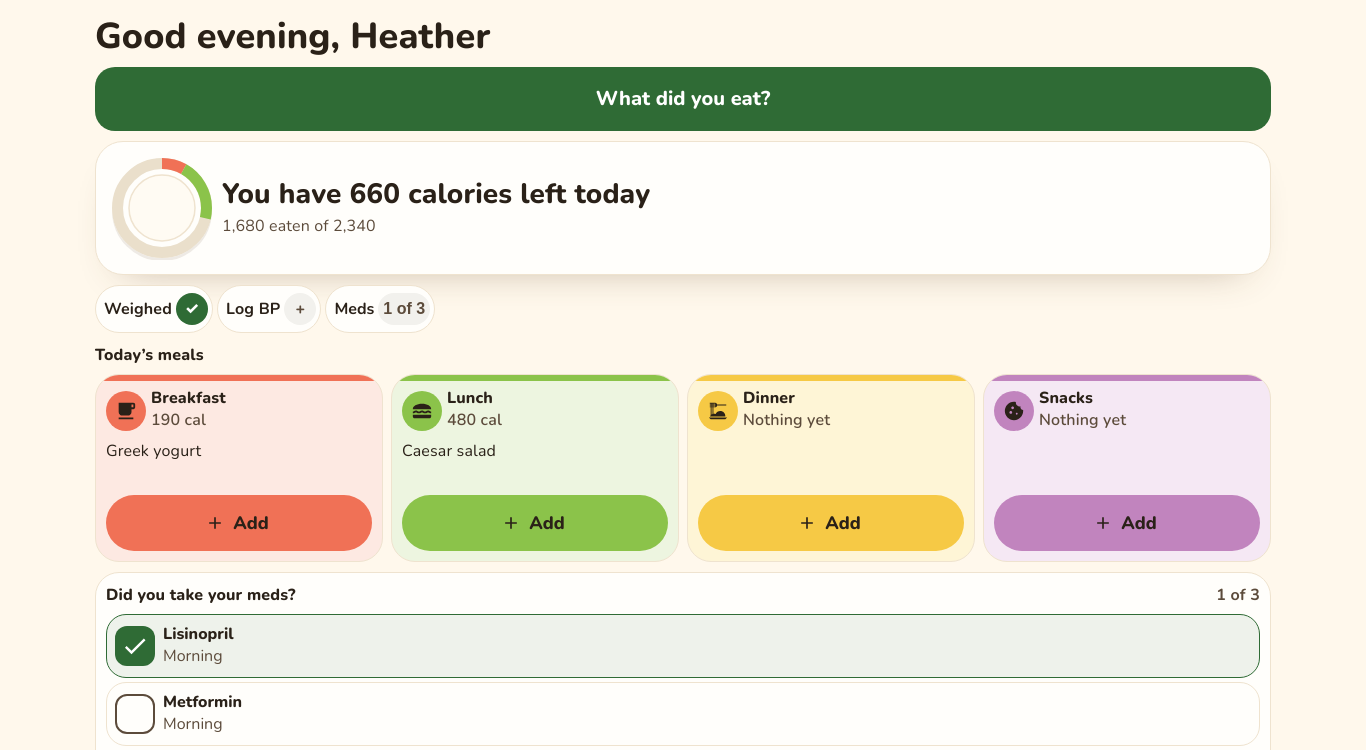
Test: the add sheet keeps her words when closed (L18) › from "What did you eat?"
Click the button with test id "what-did-you-eat" at (683, 99), box [95, 67, 1271, 131]
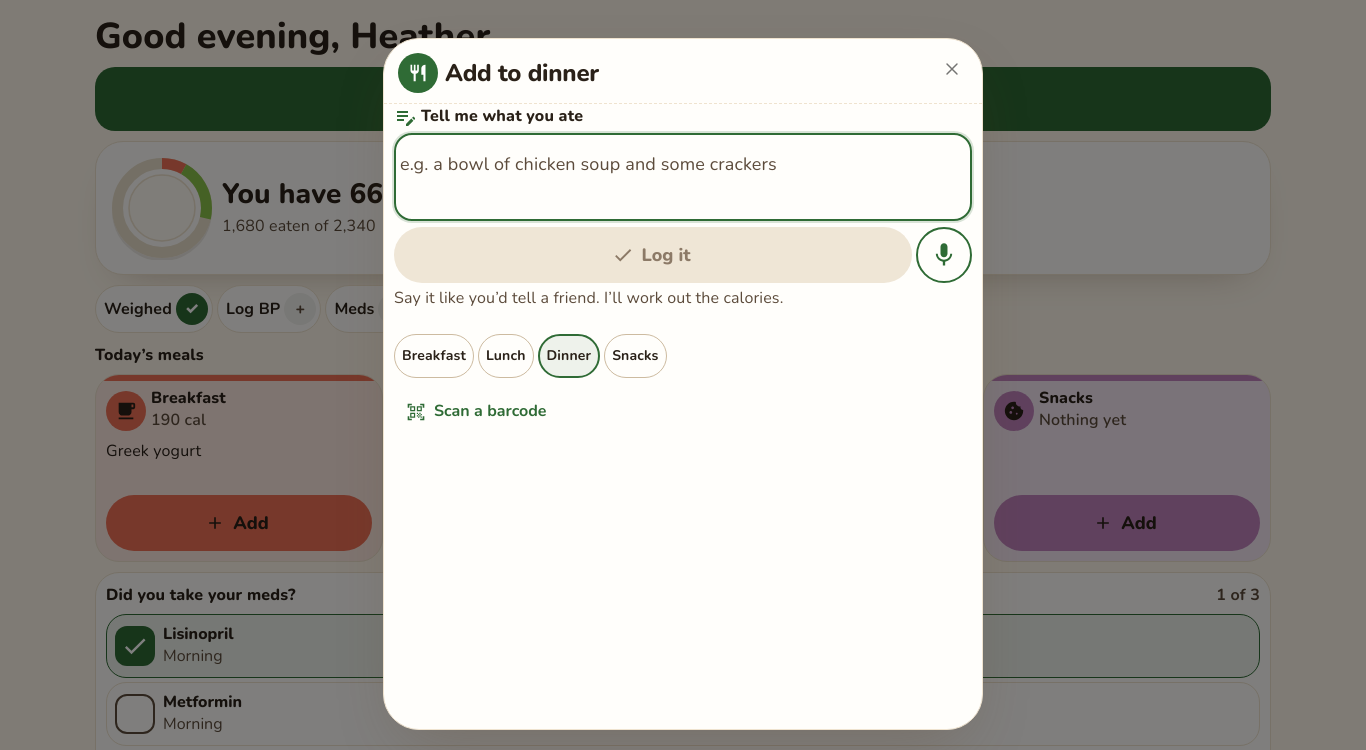
Type "chicken noodle soup" into the text box labelled "Tell me what you ate" at (683, 177), box [400, 139, 966, 215]
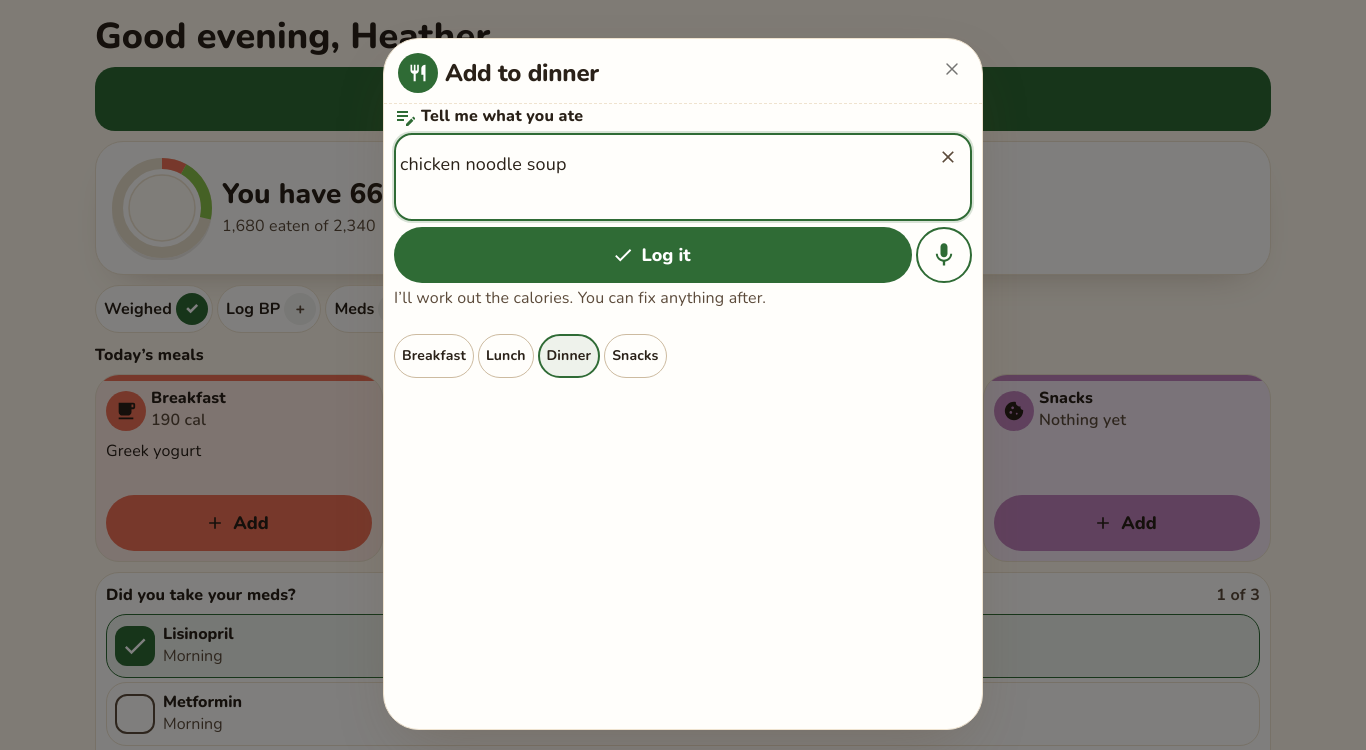
Press Escape in the dialog, box [383, 38, 983, 730]
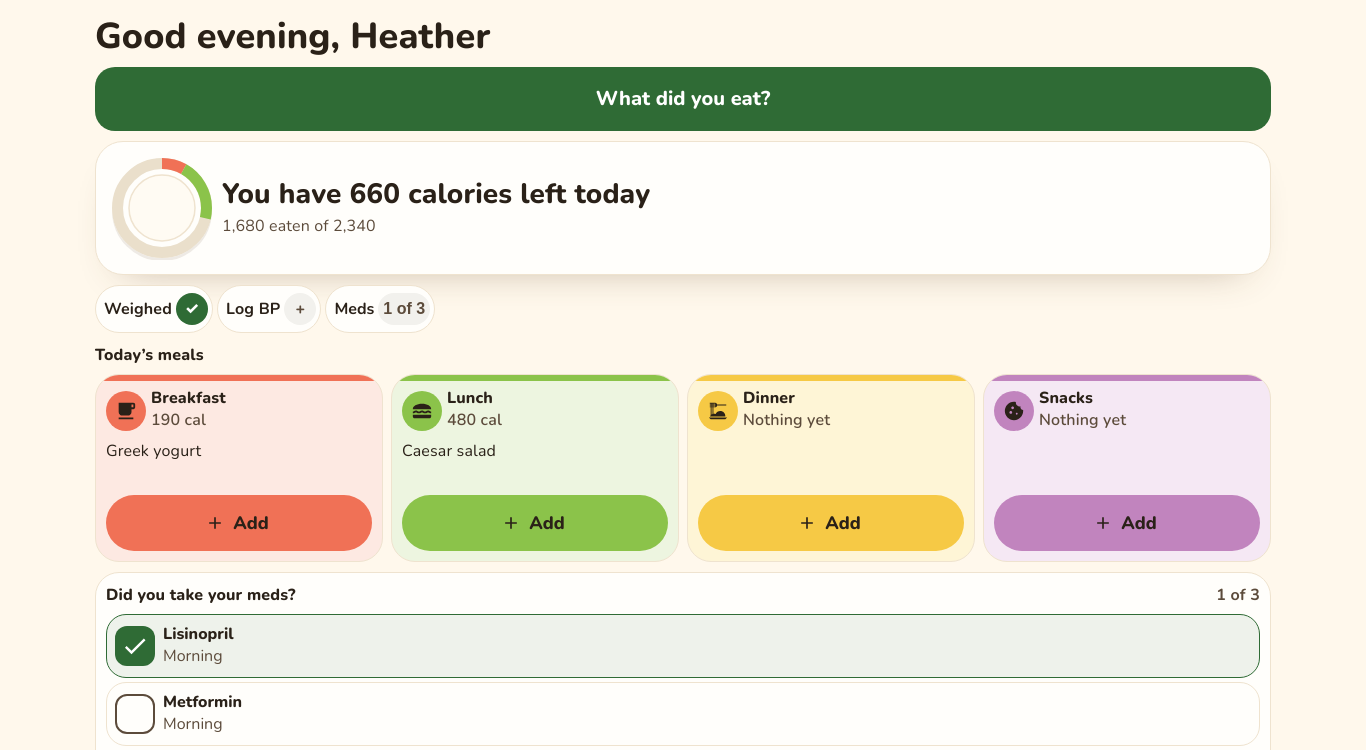
Expected: the dialog is gone
Click the button with test id "what-did-you-eat" at (683, 99), box [95, 67, 1271, 131]
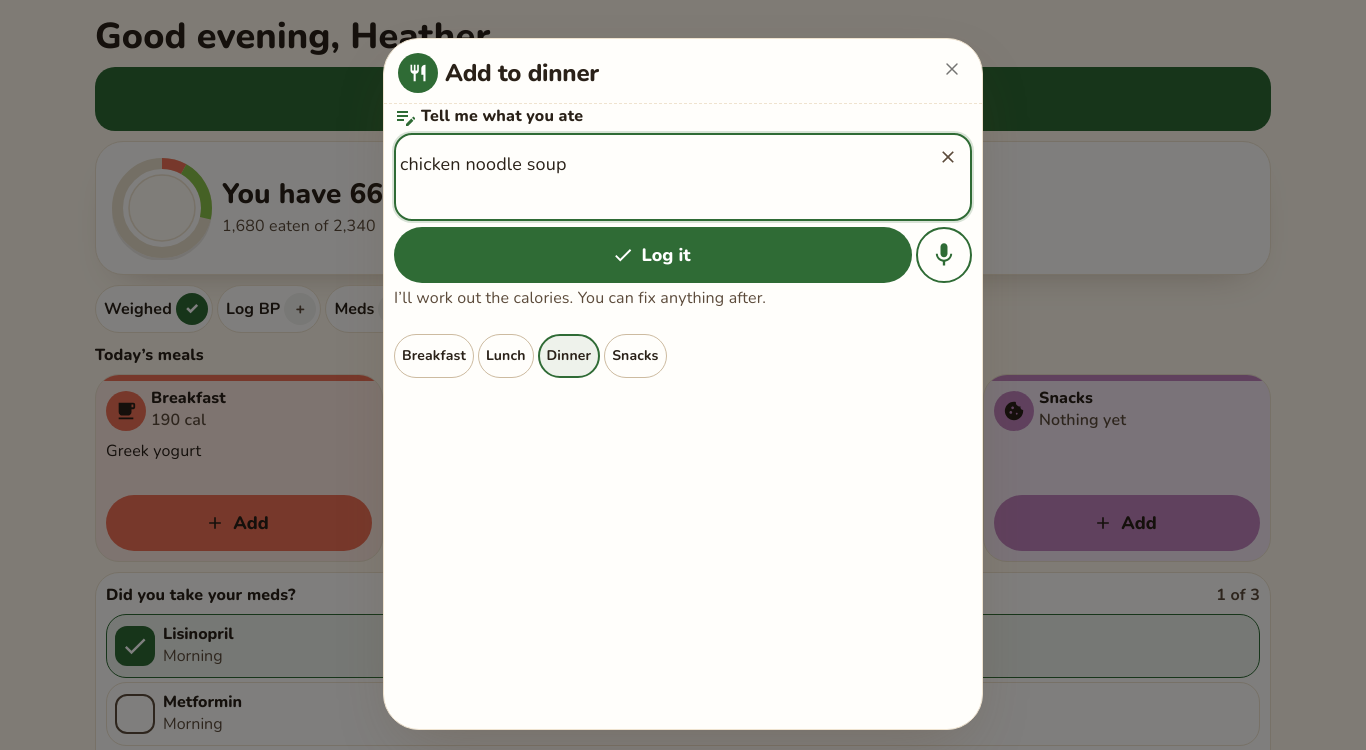
Expected: the text box labelled "Tell me what you ate" holds "chicken noodle soup", [400, 139, 918, 215]
